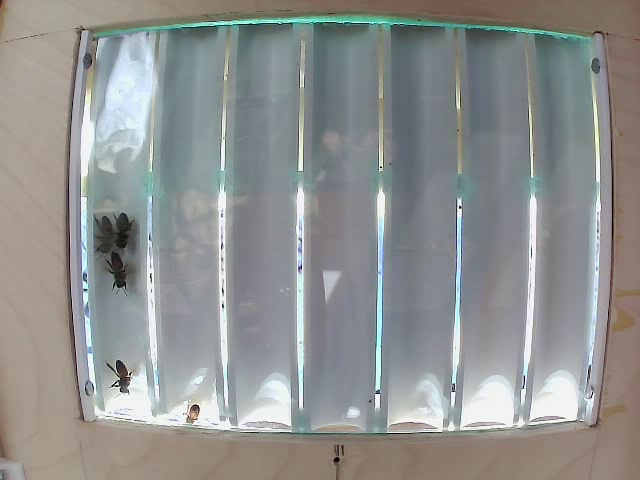bee: (93, 253, 142, 296), (89, 212, 119, 259), (109, 217, 143, 249)
